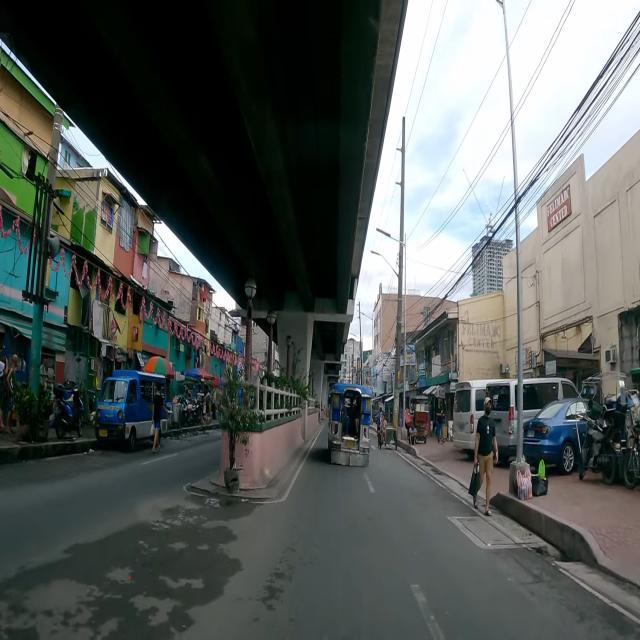car: (485, 378, 580, 461), (524, 398, 588, 475), (452, 379, 500, 462)
jeepney: (328, 383, 371, 466)
motorcycle: (53, 386, 84, 438)
tricycle: (575, 378, 640, 488), (377, 408, 397, 448)
